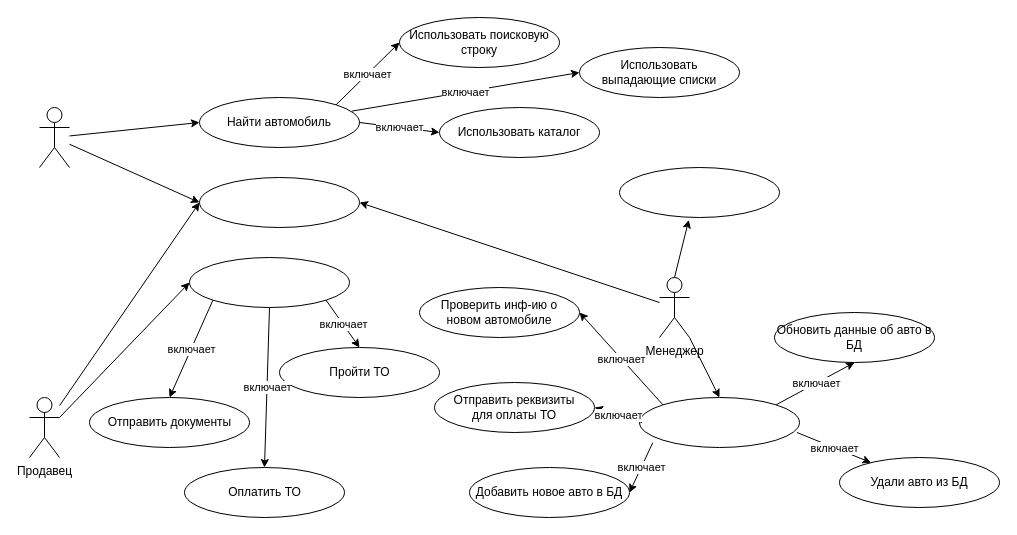
Image size: 1017x535. Some labels were removed from this diagram. Each missing label, with the centre of its shape:
"Войти в систему" belongs at (x=279, y=202).
"Обработать запрос покупателя" belongs at (x=699, y=192).
"Обработать запрос продавца" belongs at (x=719, y=422).
"Покупатель" belongs at (x=54, y=137).
"Продать автомобиль" belongs at (x=269, y=282).
